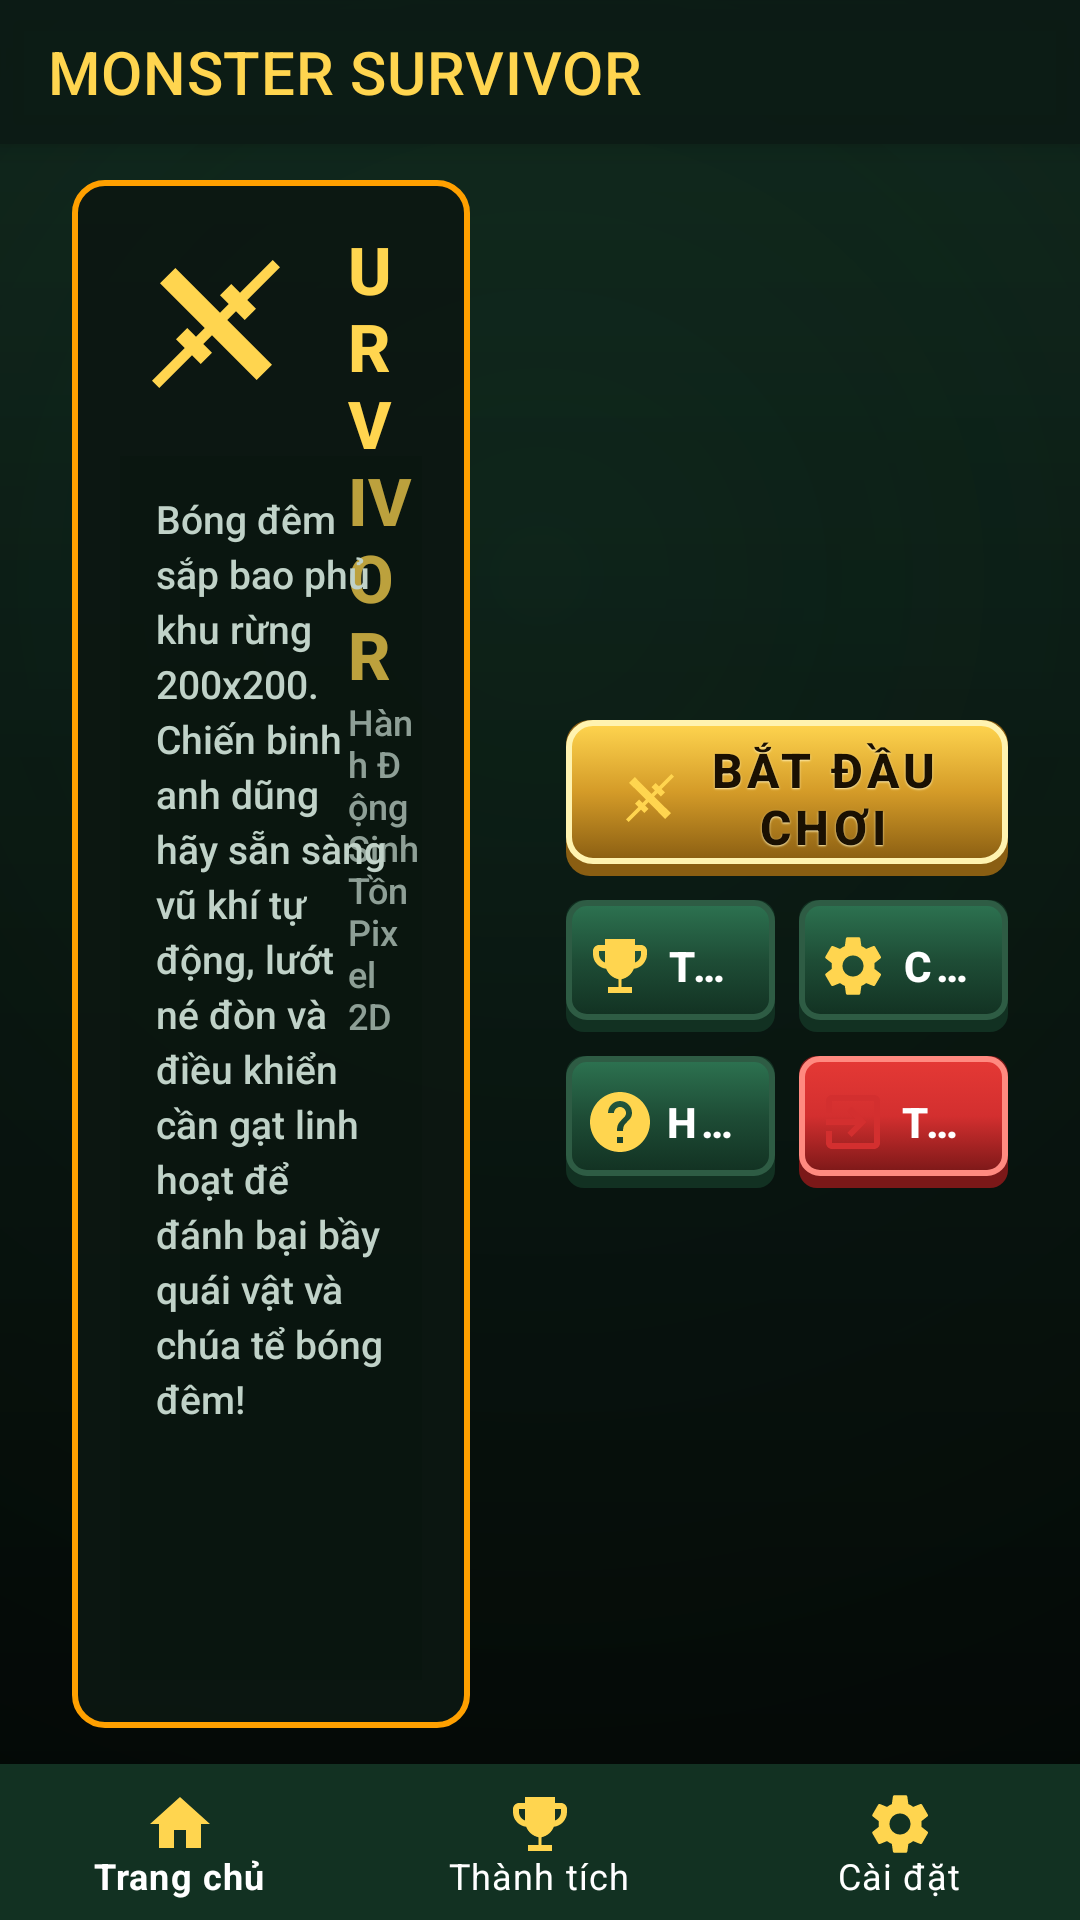

Icons on this 1080*1920 Android screen, each with its box as box=[x1, y1, x2, y2]:
sword: box=[152, 260, 280, 388]
